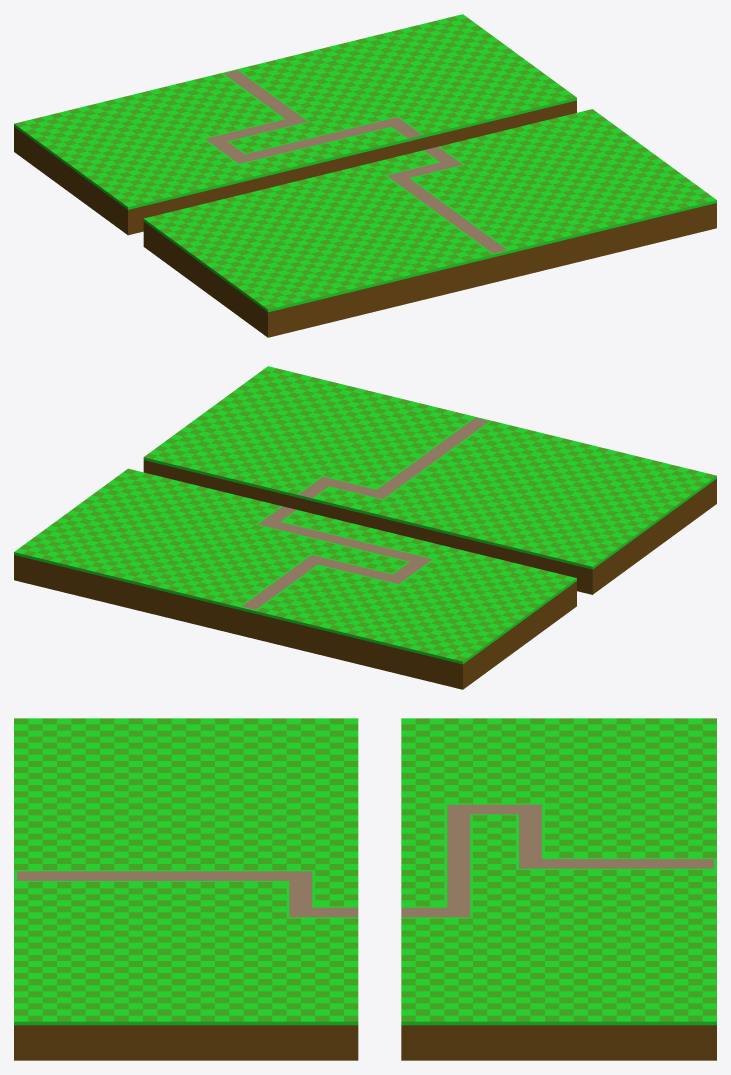
File: Map 03 - 3.fbx
The picture shows the model from 3 angles, top to bottom: view 1: azimuth 30°, elevation 25°; view 2: azimuth 150°, elevation 25°; view 3: azimuth 270°, elevation 25°; orthographic projection. The views are drawn at different scales.
Visible parts, largest first — view 1: Plane.016, Plane.002; view 2: Plane.016, Plane.002; view 3: Plane.016, Plane.002.
Part boxes in pixels (left/top/right/bottom): Plane.016: left=14, top=14, right=716, bottom=337; Plane.002: left=205, top=70, right=507, bottom=253; Plane.016: left=14, top=366, right=716, bottom=689; Plane.002: left=241, top=418, right=489, bottom=609; Plane.016: left=14, top=718, right=716, bottom=1060; Plane.002: left=17, top=804, right=713, bottom=917.
Size of the model in its own units: 500 by 30 by 490.
